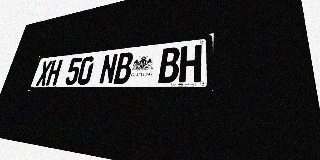0: (76, 56, 95, 85)
5: (64, 57, 83, 85)
B: (158, 47, 180, 83), (113, 52, 134, 84)
H: (179, 44, 202, 83), (45, 59, 63, 86)
N: (98, 53, 118, 84)
X: (36, 60, 53, 86)
